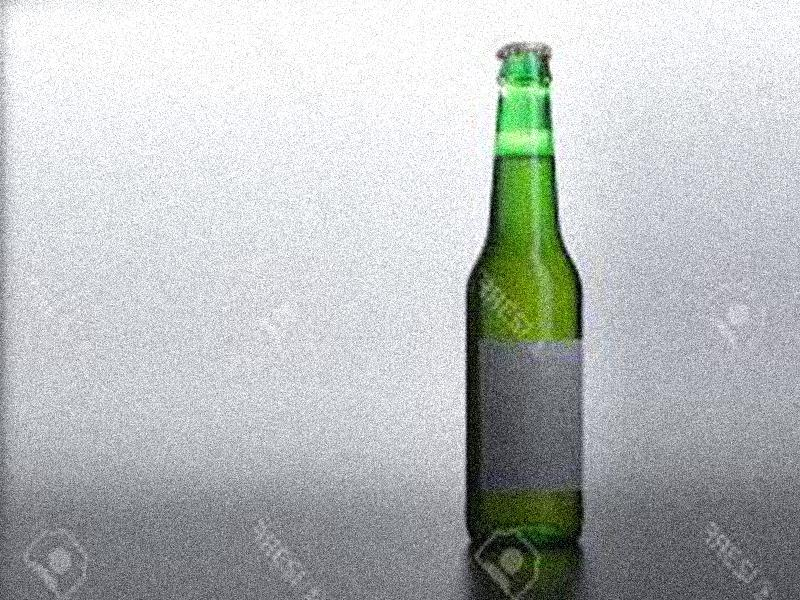Beer: (465, 42, 584, 545)
